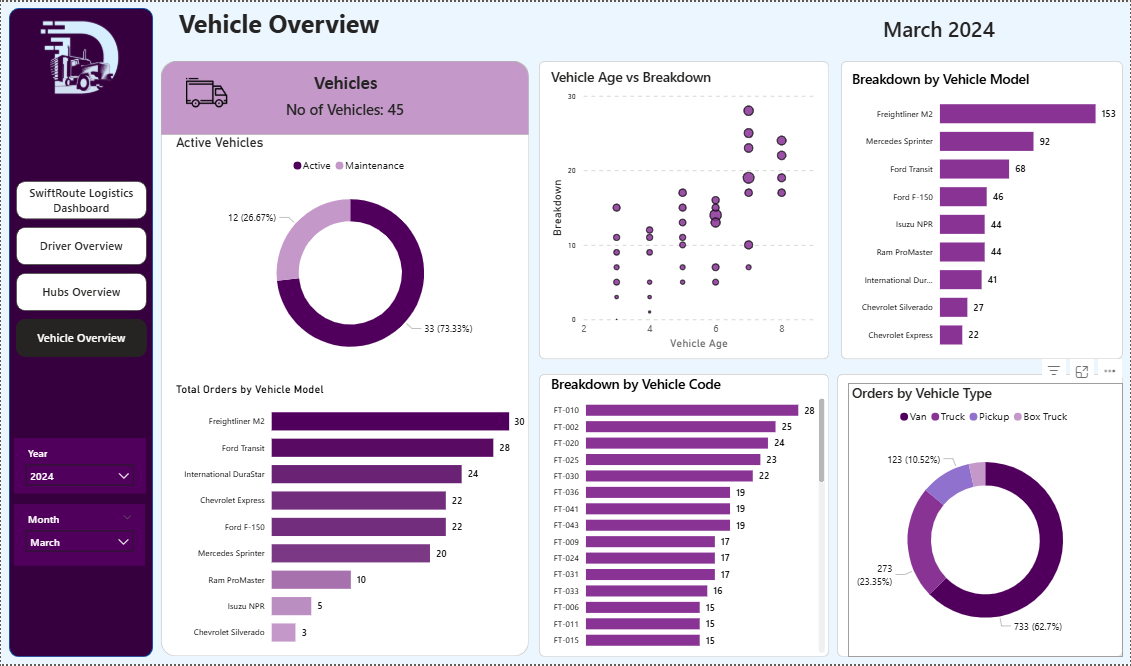

The page's visual inventory and layout, read from the dashboard file:
{"tool":"powerbi","page":{"name":"Vehicle Overview","canvas":[1450,850],"ordinal":3},"visuals":[{"type":"textbox","box":[205.5,0,505.8,53.7],"z":0},{"type":"shape","box":[10.3,8,185,833.5],"z":1000},{"type":"slicer","fields":{"Values":["Date Table.Year"]},"box":[17,559.2,169,70.8],"z":2000},{"type":"slicer","fields":{"Values":["Date Table.Month"]},"box":[17.1,644.7,168.4,78.9],"z":3000},{"type":"image","box":[18.4,14.5,168.4,122.4],"z":4000},{"type":"cardVisual","fields":{"Data":["Orders.Year Month Title"]},"box":[1098.7,13.2,210.5,40.8],"z":5000},{"type":"shape","box":[690.8,76.3,372.4,382.9],"z":6000},{"type":"shape","box":[205.3,76.3,472.4,764.5],"z":7000},{"type":"shape","box":[205.3,76.3,472.4,94.7],"z":8000},{"type":"textbox","box":[242.1,82.9,400,40.8],"z":9000},{"type":"cardVisual","fields":{"Data":["Vehicles.No of Vehicles"]},"box":[336.8,115.8,210.5,40.8],"z":10000},{"type":"donutChart","title":"Active Vehicles","fields":{"Category":["Vehicles.Vehicle Status"],"Y":["CountNonNull(Vehicles.Vehicle ID)"]},"box":[219.7,171.1,457.9,306.6],"z":11000},{"type":"barChart","fields":{"Category":["Vehicles.Vehicle Model"],"Y":["Orders.Total Orders"]},"box":[219.7,489.5,457.9,351.3],"z":12000},{"type":"shape","box":[1078.9,76.3,361.8,382.9],"z":13000},{"type":"shape","box":[690.8,477.6,372.4,363.2],"z":14000},{"type":"shape","box":[1073.7,477.6,367.1,363.2],"z":15000},{"type":"scatterChart","title":"Vehicle Age vs Breakdown","fields":{"X":["Vehicles.Vehicle Age"],"Y":["Vehicles.Breakdown"],"Size":["Sum(Vehicles.Breakdown)1"]},"box":[701.3,82.9,352.6,367.1],"z":16000},{"type":"barChart","title":"Breakdown by Vehicle Code","fields":{"Y":["Sum(Vehicles.Breakdown)"],"Category":["Vehicles.Vehicle Code"]},"box":[701.3,477.6,361.8,363.2],"z":17000},{"type":"barChart","title":"Breakdown by Vehicle Model","fields":{"Y":["Sum(Vehicles.Breakdown)"],"Category":["Vehicles.Vehicle Model"]},"box":[1088.2,85.5,352.6,373.7],"z":18000},{"type":"donutChart","title":"Orders by Vehicle Type","fields":{"Category":["Orders.Vehicle Type"],"Y":["Orders.Total Orders"]},"box":[1088.2,489.5,352.6,351.3],"z":19000},{"type":"pageNavigator","box":[19.7,230.3,168.4,226.3],"z":20000},{"type":"image","box":[219.7,89.5,89.5,52.6],"z":21000}]}

Visuals, with their boxes in screenshot pixels (x1, y1, x2, y2), scaled from the page's 1450x850 canvas onto the 1131x666 screenshot:
textbox: Rect(160, 0, 555, 42)
shape: Rect(8, 6, 152, 659)
slicer - Date Table.Year: Rect(13, 438, 145, 494)
slicer - Date Table.Month: Rect(13, 505, 145, 567)
image: Rect(14, 11, 146, 107)
cardVisual - Orders.Year Month Title: Rect(857, 10, 1021, 42)
shape: Rect(539, 60, 829, 360)
shape: Rect(160, 60, 529, 659)
shape: Rect(160, 60, 529, 134)
textbox: Rect(189, 65, 501, 97)
cardVisual - Vehicles.No of Vehicles: Rect(263, 91, 427, 123)
"Active Vehicles" donutChart: Rect(171, 134, 529, 374)
barChart - Vehicles.Vehicle Model x Orders.Total Orders: Rect(171, 384, 529, 659)
shape: Rect(842, 60, 1124, 360)
shape: Rect(539, 374, 829, 659)
shape: Rect(837, 374, 1124, 659)
"Vehicle Age vs Breakdown" scatterChart: Rect(547, 65, 822, 353)
"Breakdown by Vehicle Code" barChart: Rect(547, 374, 829, 659)
"Breakdown by Vehicle Model" barChart: Rect(849, 67, 1124, 360)
"Orders by Vehicle Type" donutChart: Rect(849, 384, 1124, 659)
pageNavigator: Rect(15, 180, 147, 358)
image: Rect(171, 70, 241, 111)
